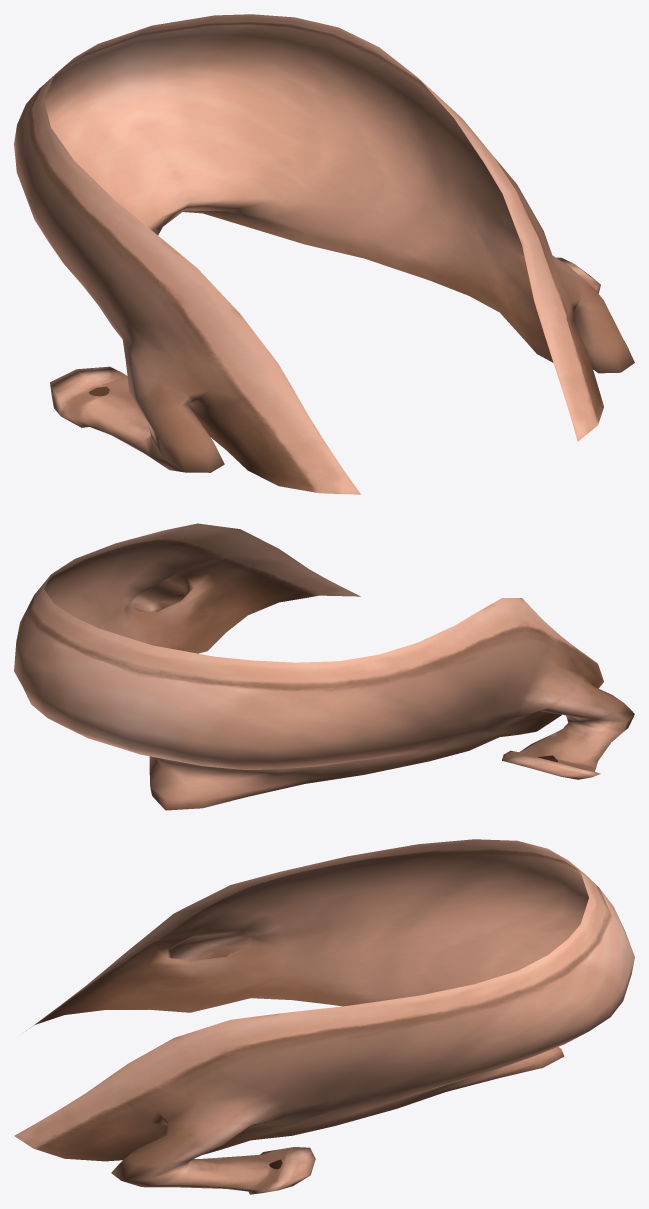
File: Tela_mesh.FBX
3 renders of one model, top to bottom at view 1: azimuth 30°, elevation 25°; view 2: azimuth 150°, elevation 25°; view 3: azimuth 270°, elevation 25°, orthographic. The views are drawn at different scales.
Visible parts, largest first — view 1: Plane004; view 2: Plane004; view 3: Plane004.
Boxes of the visible parts, x1=… form: Plane004: x1=14, y1=14, x2=634, y2=494; Plane004: x1=14, y1=523, x2=634, y2=810; Plane004: x1=14, y1=839, x2=634, y2=1194.
Size of the model in its own units: 136 by 50.71 by 150.
